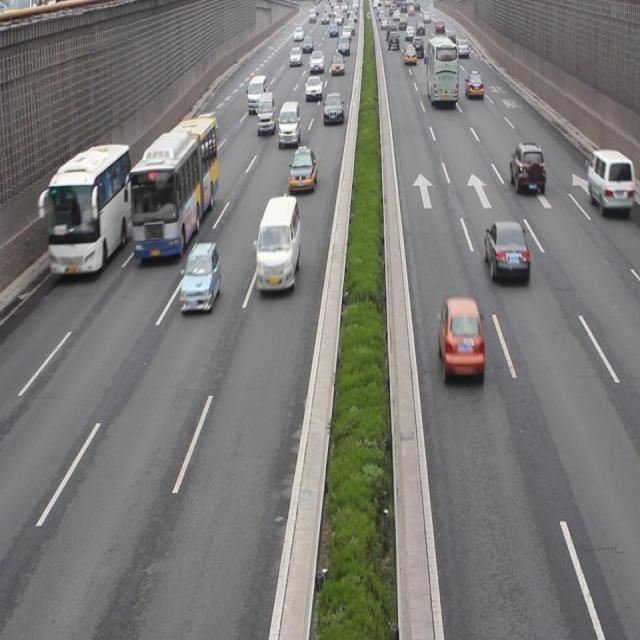car: (438, 294, 483, 384), (181, 242, 221, 314), (484, 220, 528, 283), (508, 143, 544, 196), (288, 146, 316, 192), (322, 93, 343, 125), (194, 111, 217, 140)
truck: (254, 196, 300, 297), (586, 150, 640, 213), (277, 103, 301, 145), (257, 92, 275, 136)
van: (130, 111, 218, 262), (47, 145, 133, 276)
